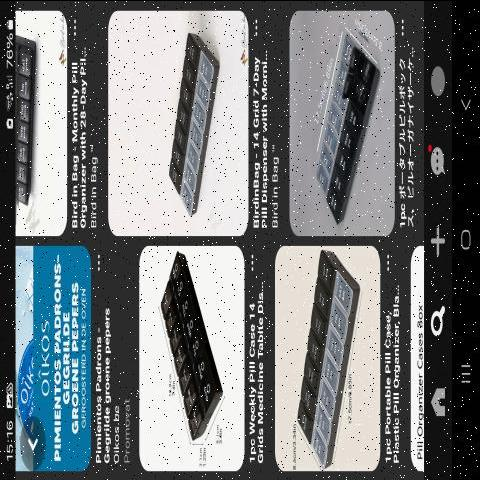PillBox: (282, 248, 371, 462), (142, 252, 231, 452), (148, 25, 222, 227), (306, 19, 374, 227)
